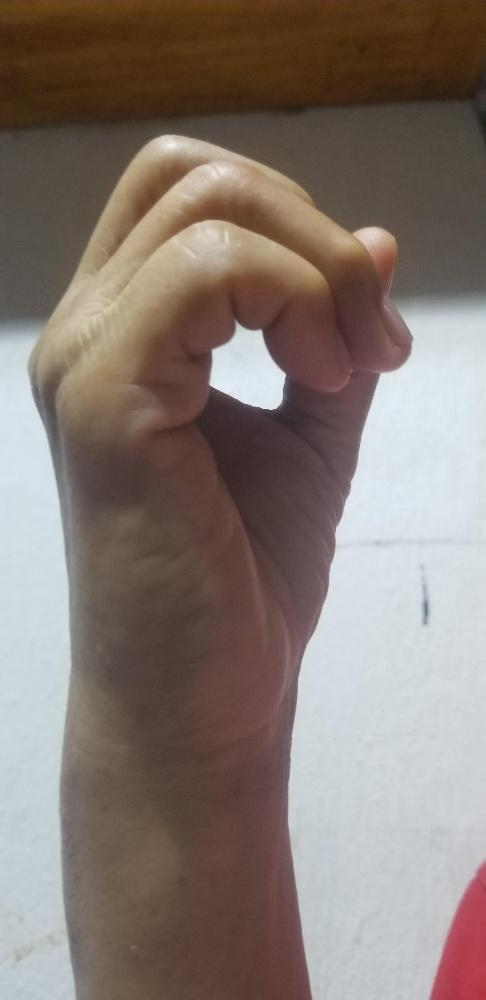o: (20, 129, 417, 712)
